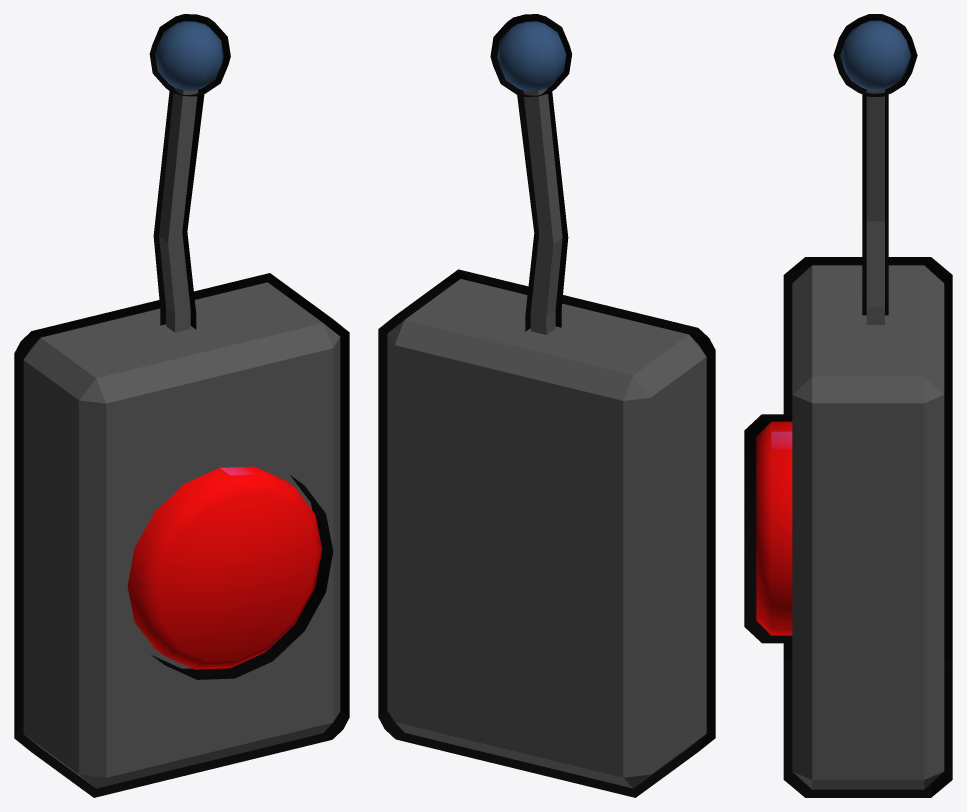
Rendered from RedButton.fbx.
3 renders of one model, left to right at view 1: azimuth 30°, elevation 25°; view 2: azimuth 150°, elevation 25°; view 3: azimuth 270°, elevation 25°, orthographic.
Visible parts, largest first — view 1: Controller, RedButton; view 2: Controller; view 3: Controller, RedButton.
Part boxes in pixels (<box>): Controller: <box>14,14,349,797</box>; RedButton: <box>127,466,333,679</box>; Controller: <box>378,14,715,797</box>; Controller: <box>783,14,952,797</box>; RedButton: <box>744,414,792,643</box>.
Size of the model in its own units: 209 by 529 by 137.
